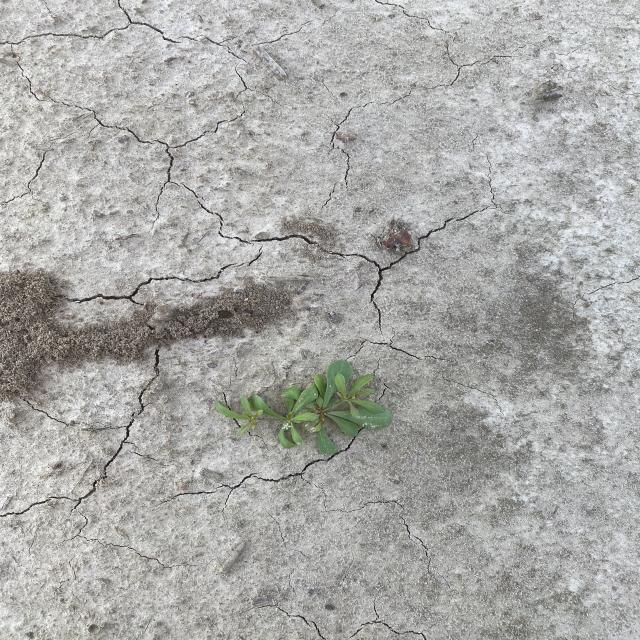Carpetweed: (208, 358, 396, 458)
